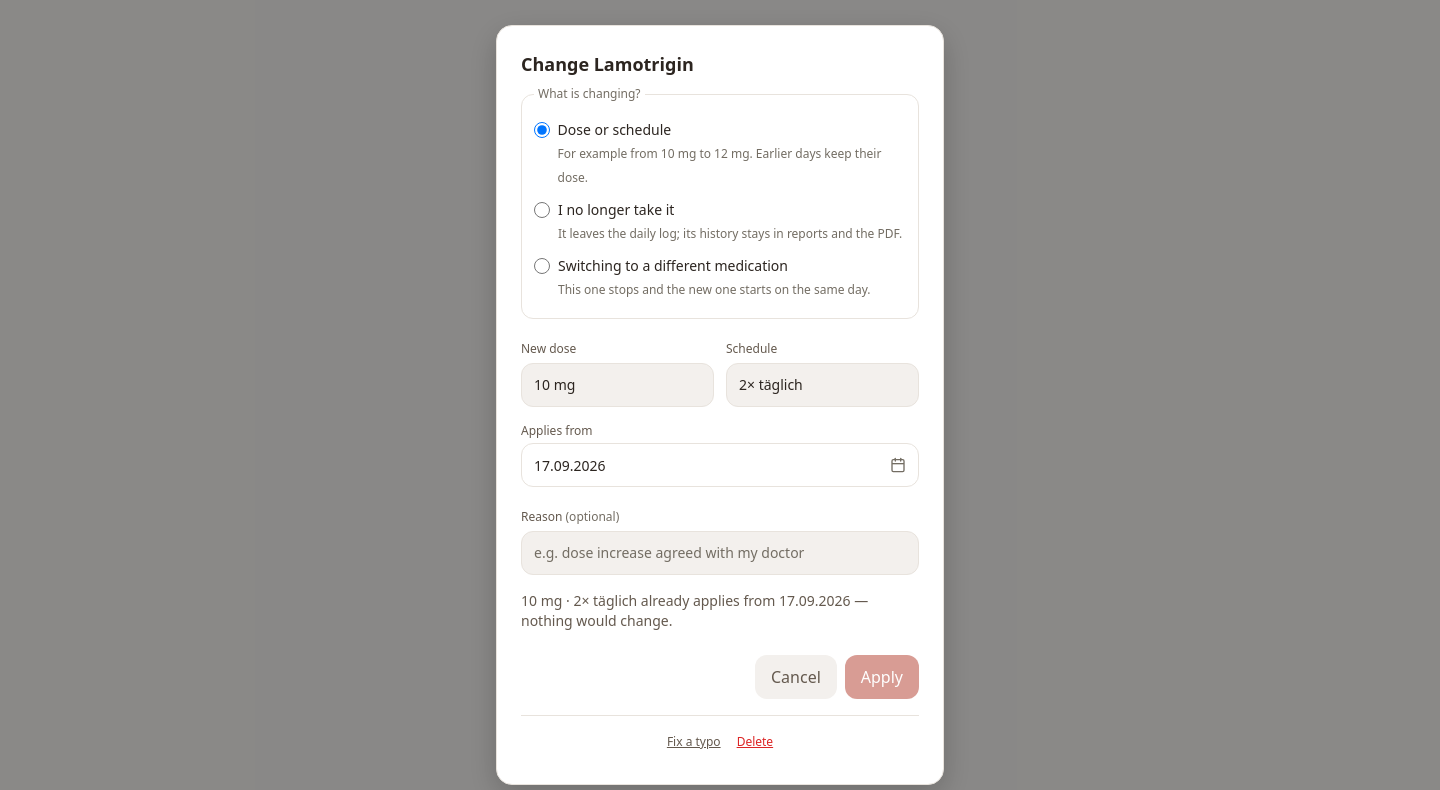
Test: a change to what already applies › is refused with a note instead of recording "8 mg → 8 mg"
The width and height of the screenshot is (1440, 790).
Expected: the message with test id "med-change-noop" shows "10 mg", top-left (521, 591), bottom-right (868, 630)
Expected: the button with test id "med-change-apply" is disabled, top-left (845, 655), bottom-right (919, 699)
Step 1. Replace the text in the field with test id "med-change-dose" with "12 mg" → [618, 385], box top-left (521, 363), bottom-right (714, 407)
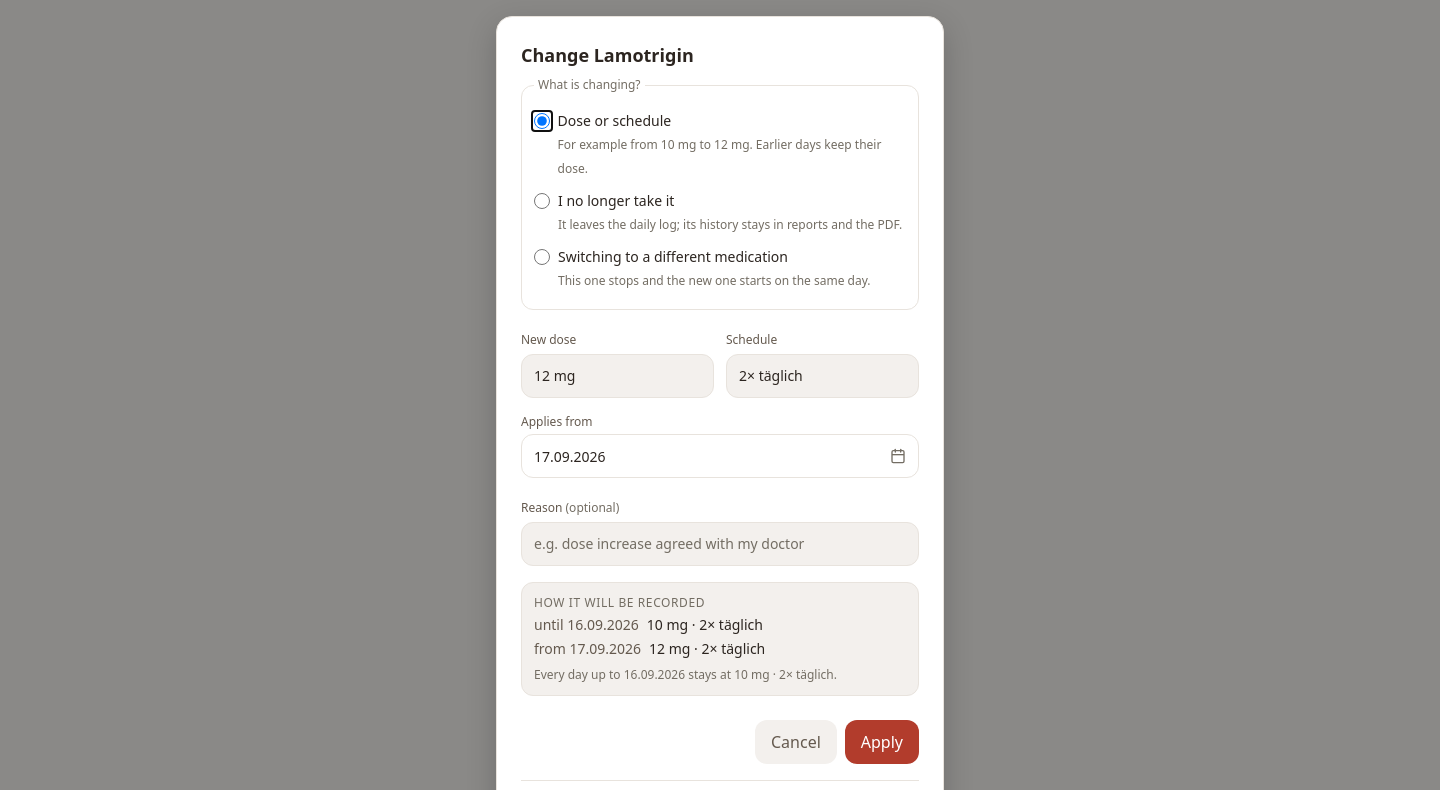
Now the button with test id "med-change-apply" is enabled, box top-left (845, 720), bottom-right (919, 764)
